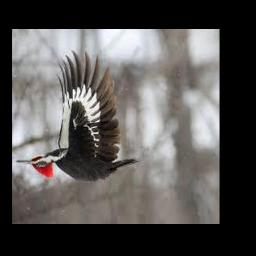Woodpecker: (15, 53, 139, 181)
